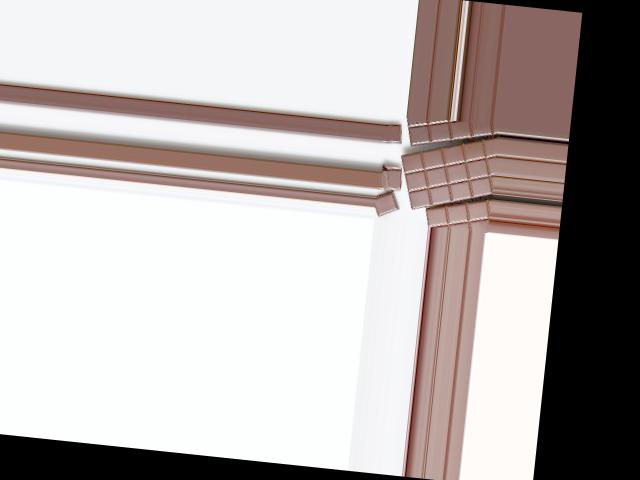chocolate: (397, 130, 498, 219)
